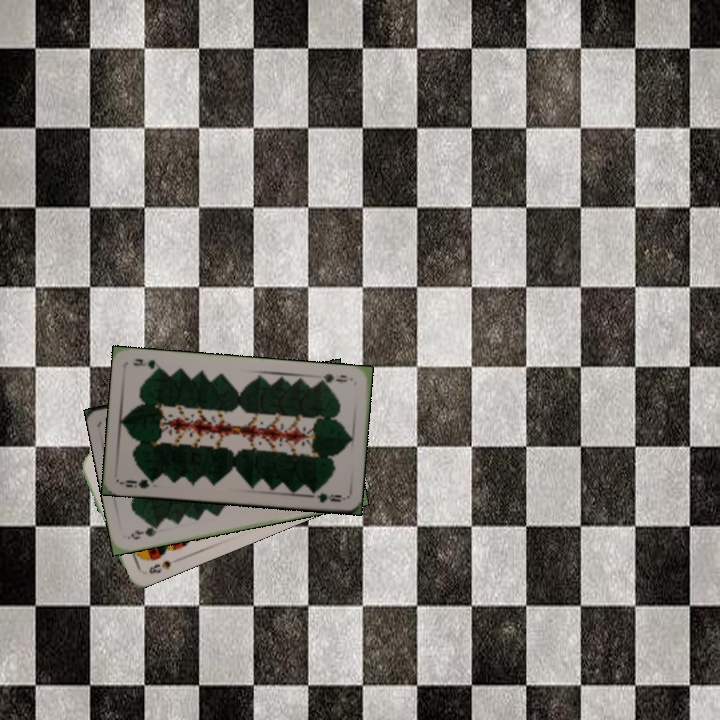G9: (125, 522, 162, 542), (117, 473, 158, 491), (314, 370, 355, 386)
S8: (144, 556, 174, 577)
